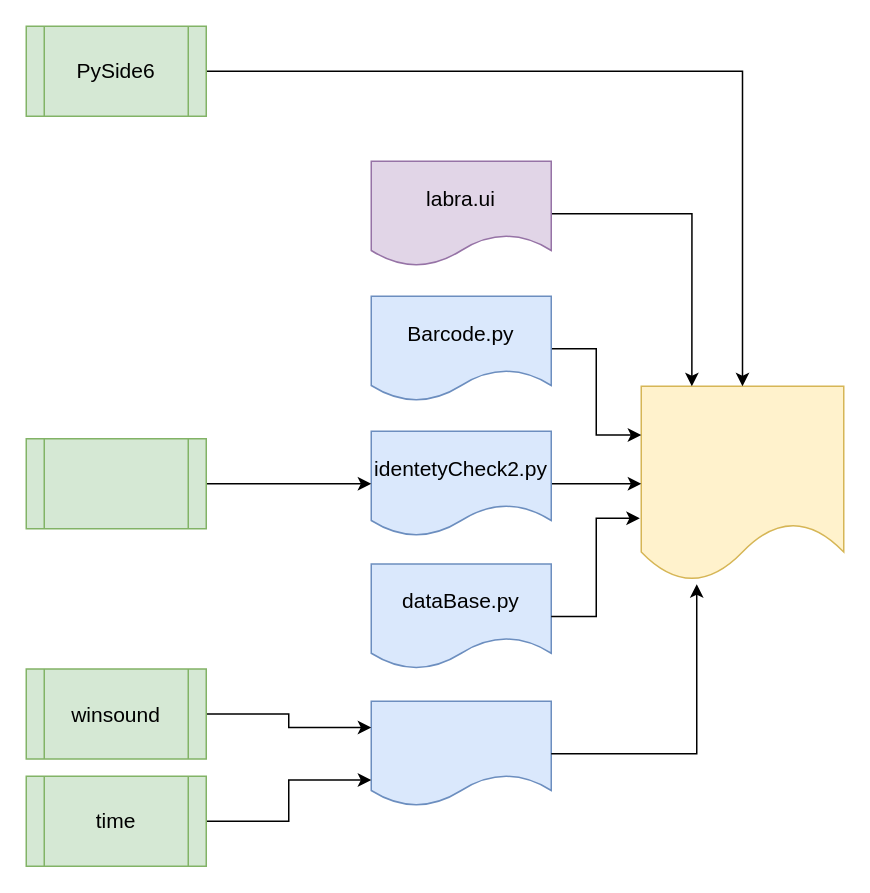
This 870x893 diagram has some shape labels left out. Here are the shapes that lost their labels. From the top down, the centre of each, then its label:
(x=115, y=483): datetime
(x=742, y=483): Main.py
(x=460, y=753): sound.py
